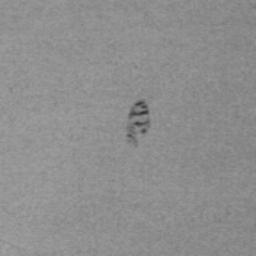Secondary rust skin: (127, 102, 150, 144)
